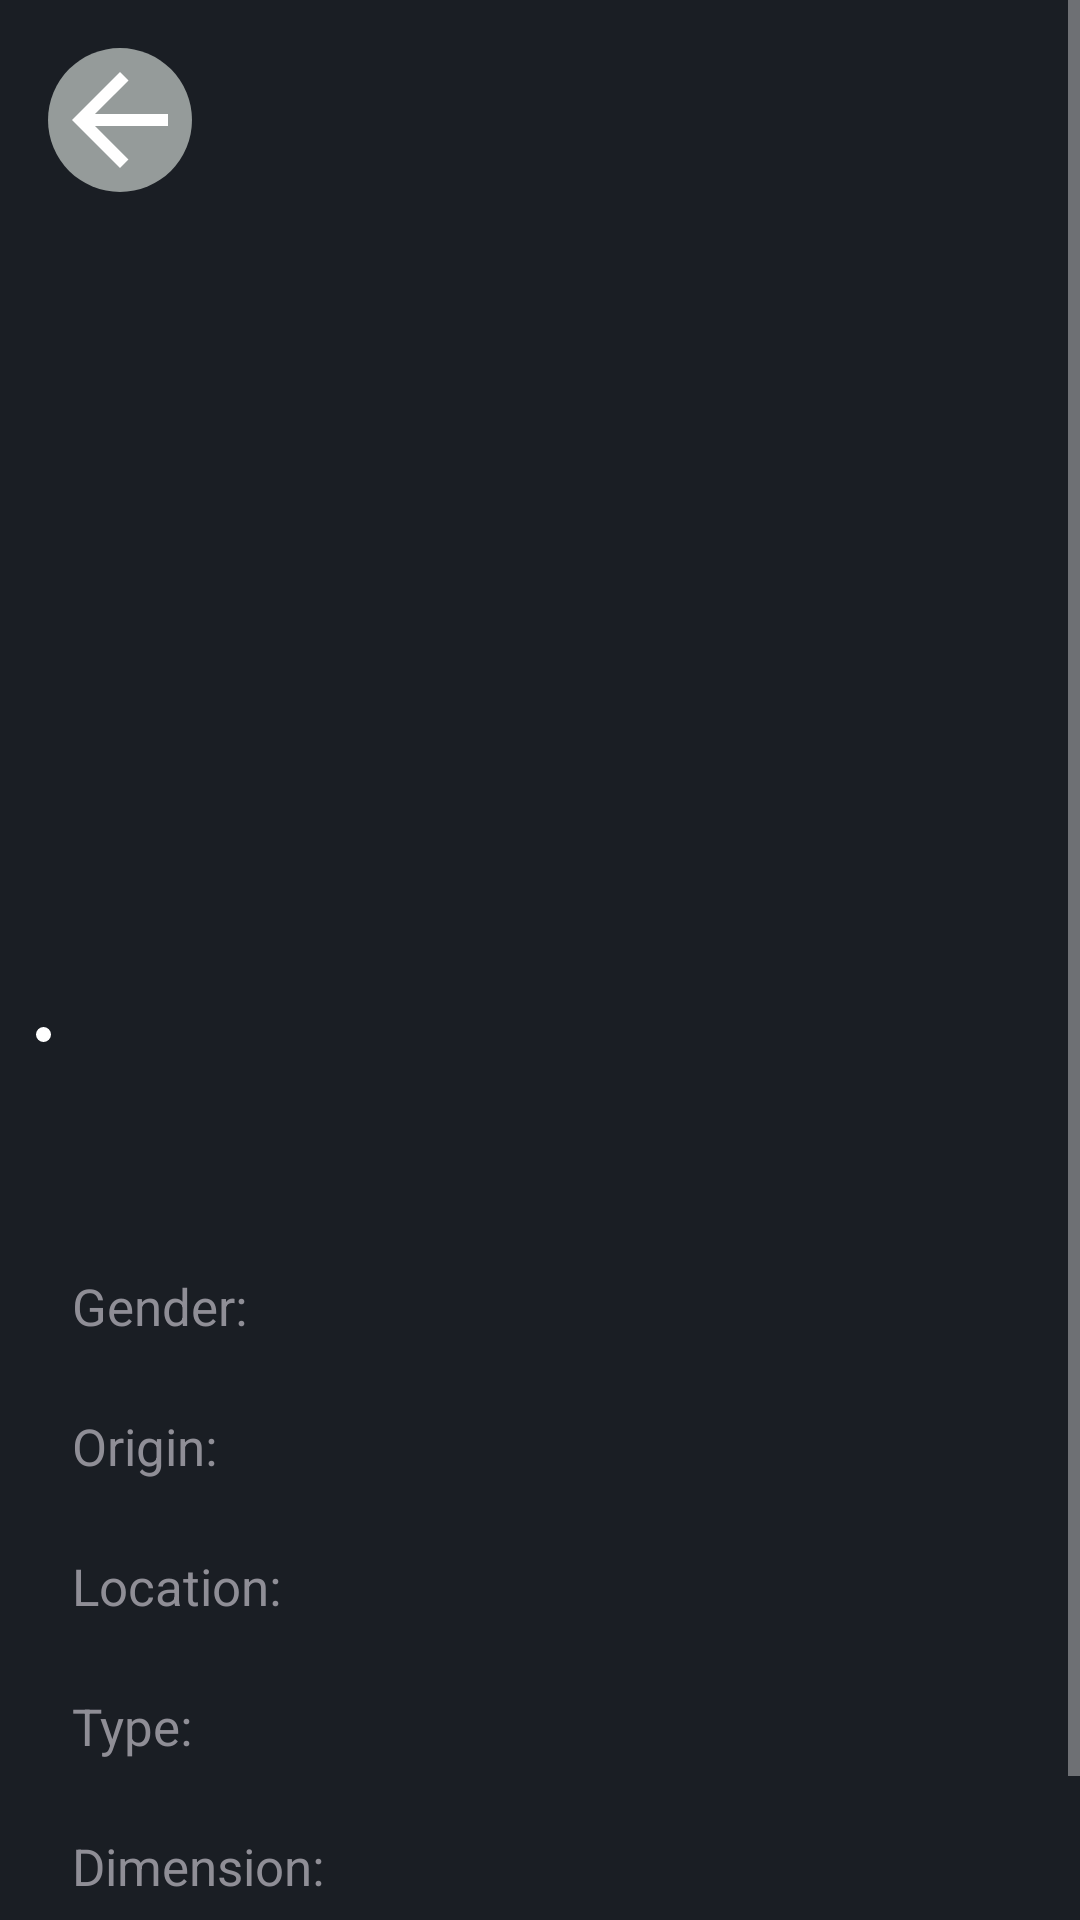

Named icons in this screenshot (1080x1920) and their bounding boxes, bbox=[x1, y1, x2, y2]:
back button: bbox=[48, 48, 192, 192]
